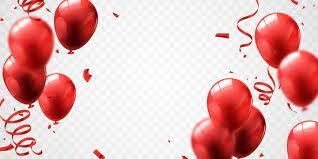red: (1, 49, 47, 109), (255, 12, 301, 70), (52, 0, 99, 54), (279, 48, 318, 111), (9, 16, 54, 69), (208, 77, 252, 129), (39, 74, 76, 125), (192, 118, 234, 159), (233, 108, 266, 159), (286, 119, 318, 159)
